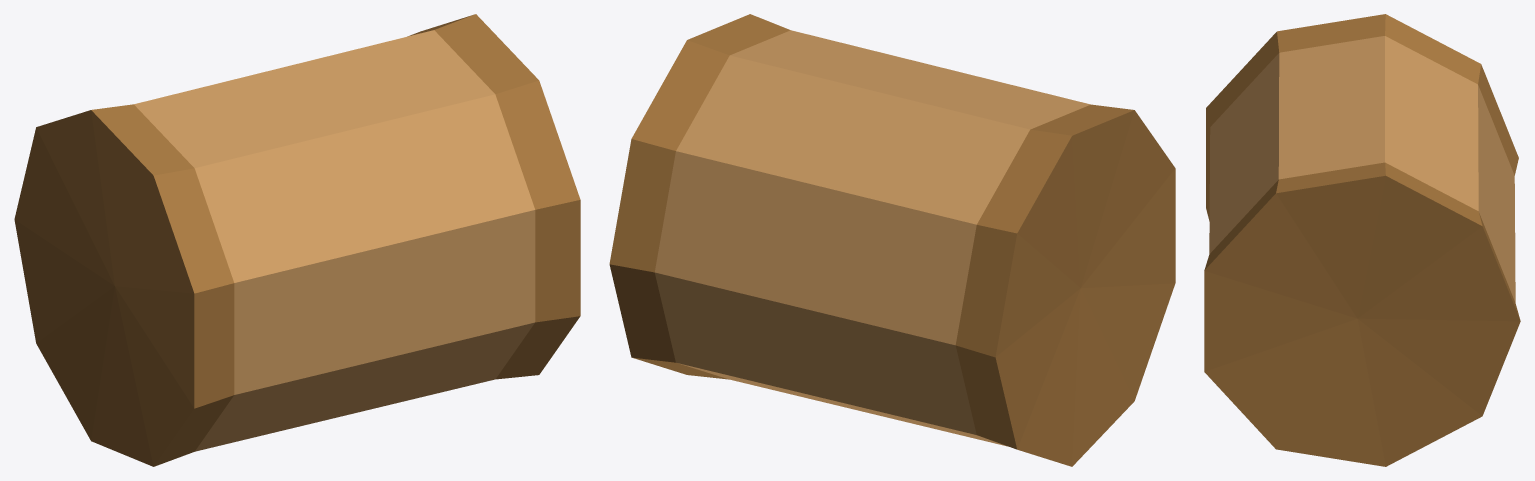
Rendered from haystack.glb.
3 views of the same model, side by side, from view 1: azimuth 30°, elevation 25°; view 2: azimuth 150°, elevation 25°; view 3: azimuth 270°, elevation 25° (orthographic). The views are drawn at different scales.
Visible parts, largest first — view 1: haystack; view 2: haystack; view 3: haystack.
Part boxes in pixels (box(x1,y1,x2,y2)): haystack: box(14, 14, 580, 466); haystack: box(609, 14, 1175, 466); haystack: box(1204, 14, 1520, 466).
Size of the model in its own units: 1.8 by 1.5 by 1.47.
1 material, 1 textured.
